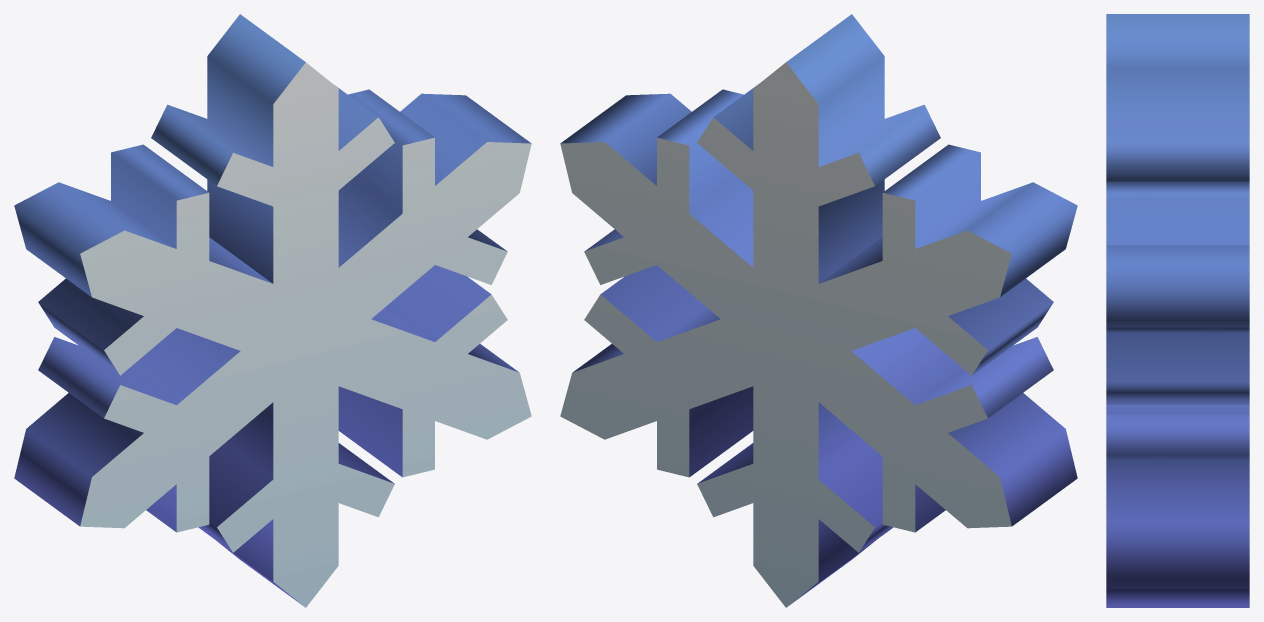
Rendered from snowflake.glb.
The picture shows the model from 3 angles, left to right: view 1: azimuth 30°, elevation 25°; view 2: azimuth 150°, elevation 25°; view 3: azimuth 270°, elevation 25°; orthographic projection. The views are drawn at different scales.
Visible parts, largest first — view 1: snowflake-a; view 2: snowflake-a; view 3: snowflake-a.
Part boxes in pixels (x1,y1,x2,y2): snowflake-a: (14,14,531,607); snowflake-a: (560,14,1077,607); snowflake-a: (1106,14,1249,607).
Bounding box in the file's own units: 0.3464 × 0.4 × 0.0875.
Materials: 1 (1 with a texture image).
